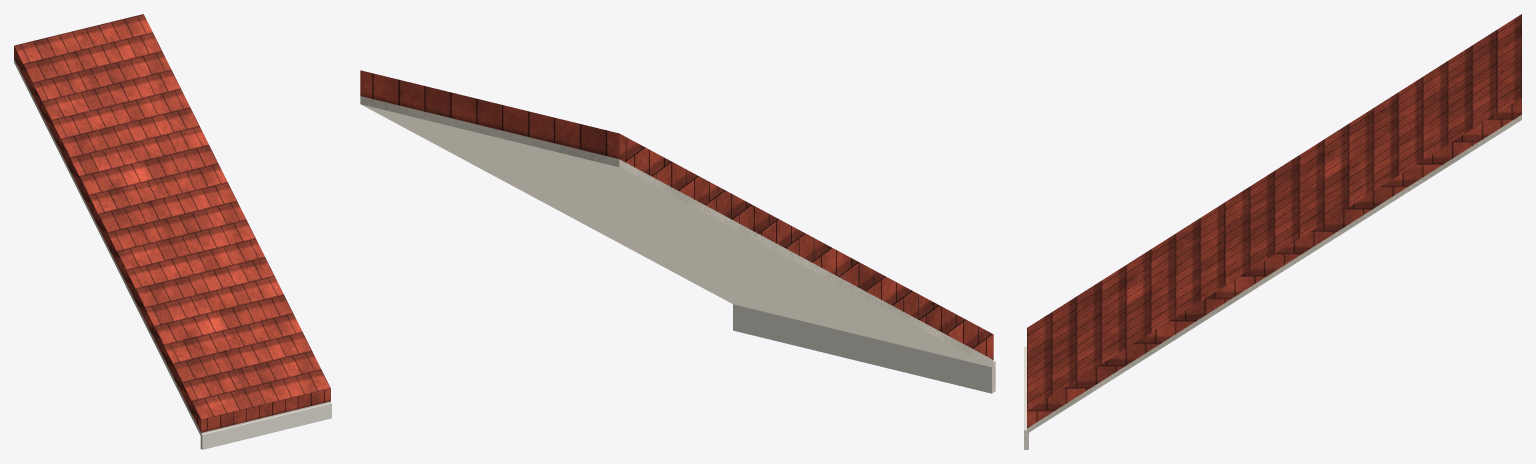
File: roof_front.glb
The picture shows the model from 3 angles, left to right: view 1: azimuth 30°, elevation 25°; view 2: azimuth 150°, elevation 25°; view 3: azimuth 270°, elevation 25°; orthographic projection. The views are drawn at different scales.
Visible parts, largest first — view 1: roof_front_roof, roof_front_trim, roof_front_plaster; view 2: roof_front_plaster, roof_front_roof, roof_front_trim; view 3: roof_front_roof, roof_front_plaster.
Part boxes in pixels (x1,y1,x2,y2): roof_front_roof: (14,14,330,432); roof_front_trim: (200,402,331,449); roof_front_plaster: (14,59,330,436); roof_front_plaster: (360,96,993,367); roof_front_roof: (360,70,993,359); roof_front_trim: (733,304,995,393); roof_front_roof: (1027,14,1521,428); roof_front_plaster: (1027,115,1521,433).
Size of the model in its own units: 2 by 3.93 by 5.03.
3 materials, 2 textured.
